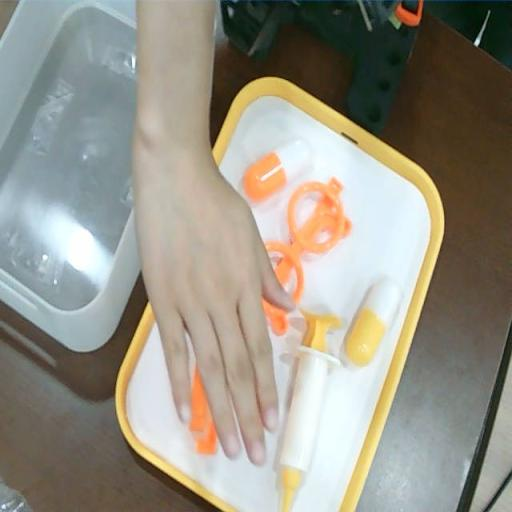hospital: (131, 157, 294, 465)
